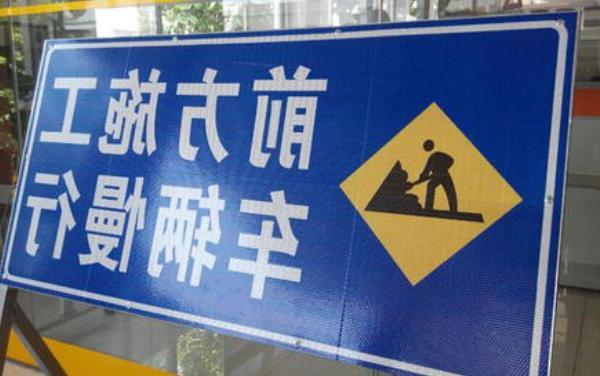sign: (5, 12, 579, 371)
